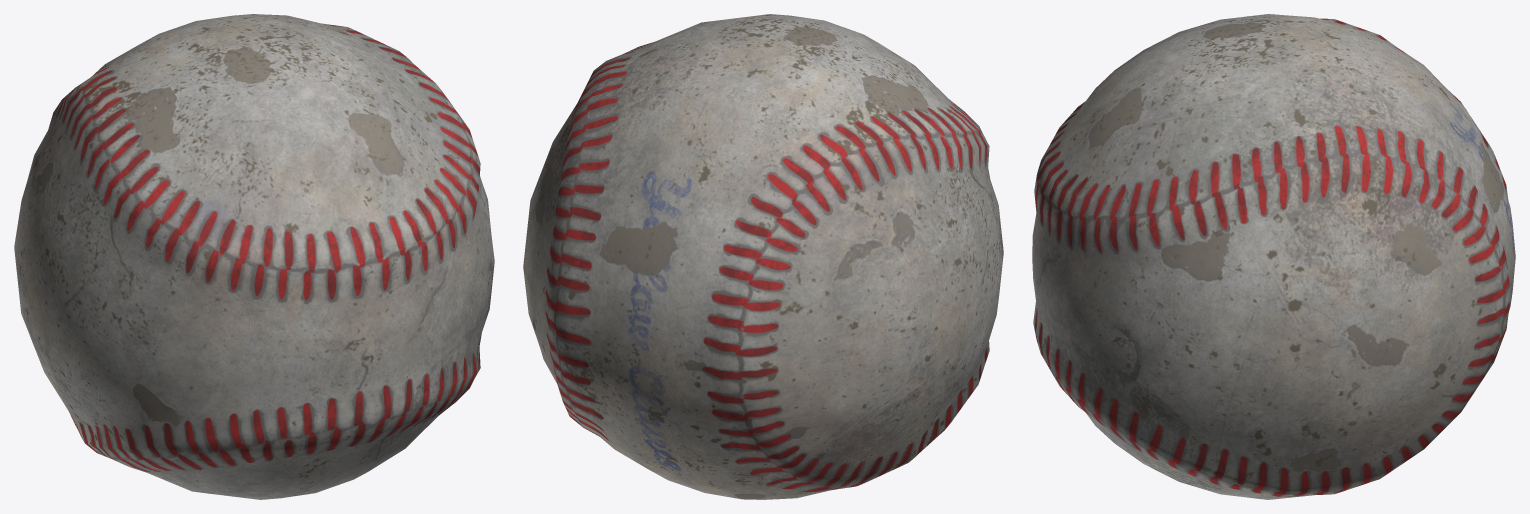
Rendered from pelota.obj.
3 renders of one model, left to right at view 1: azimuth 30°, elevation 25°; view 2: azimuth 150°, elevation 25°; view 3: azimuth 270°, elevation 25°, orthographic.
Visible parts, largest first — view 1: polySurface5_lambert1_0; view 2: polySurface5_lambert1_0; view 3: polySurface5_lambert1_0.
Boxes of the visible parts, x1,y1,x2,y2 form: polySurface5_lambert1_0: [14, 14, 494, 499]; polySurface5_lambert1_0: [523, 14, 1003, 499]; polySurface5_lambert1_0: [1032, 14, 1515, 499].
Size of the model in its own units: 0.3185 by 0.3227 by 0.3217.
1 material, 1 textured.
